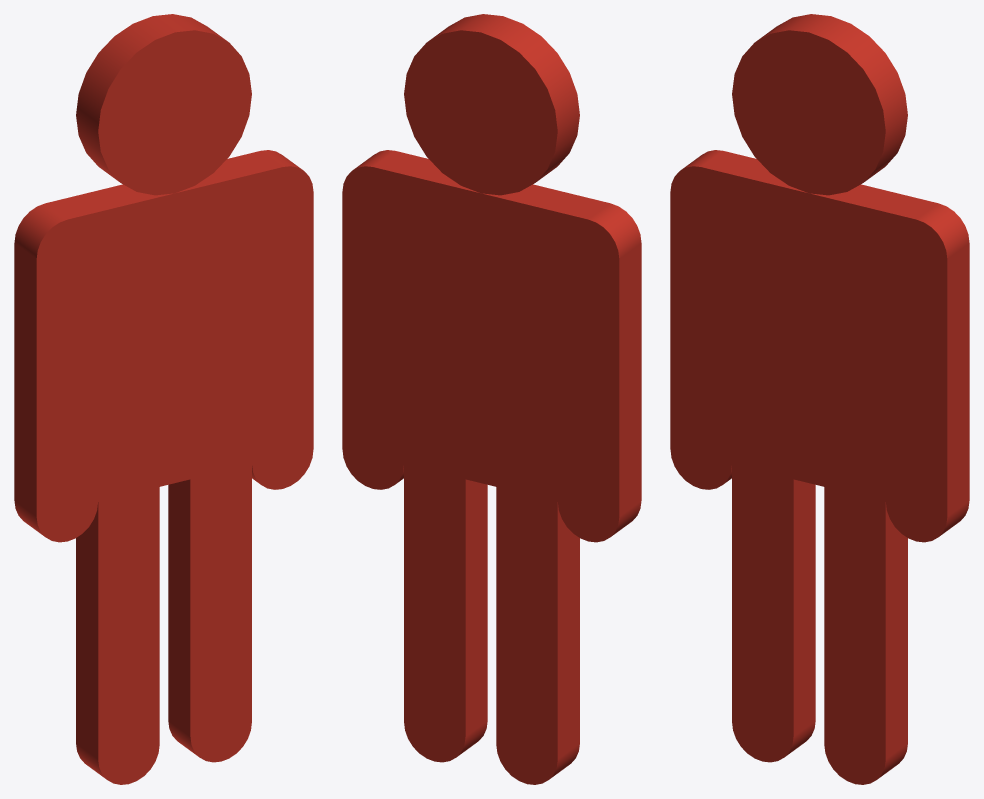
File: Human_obstacle.obj
3 views of the same model, side by side, from view 1: azimuth 30°, elevation 25°; view 2: azimuth 150°, elevation 25°; view 3: azimuth 330°, elevation 25° (orthographic).
Visible parts, largest first — view 1: Body1; view 2: Body1; view 3: Body1.
Boxes of the visible parts, bbox=[...] form: Body1: bbox=[14, 14, 313, 784]; Body1: bbox=[342, 14, 641, 784]; Body1: bbox=[670, 14, 969, 784].
Size of the model in its own units: 91.44 by 234 by 12.7.
